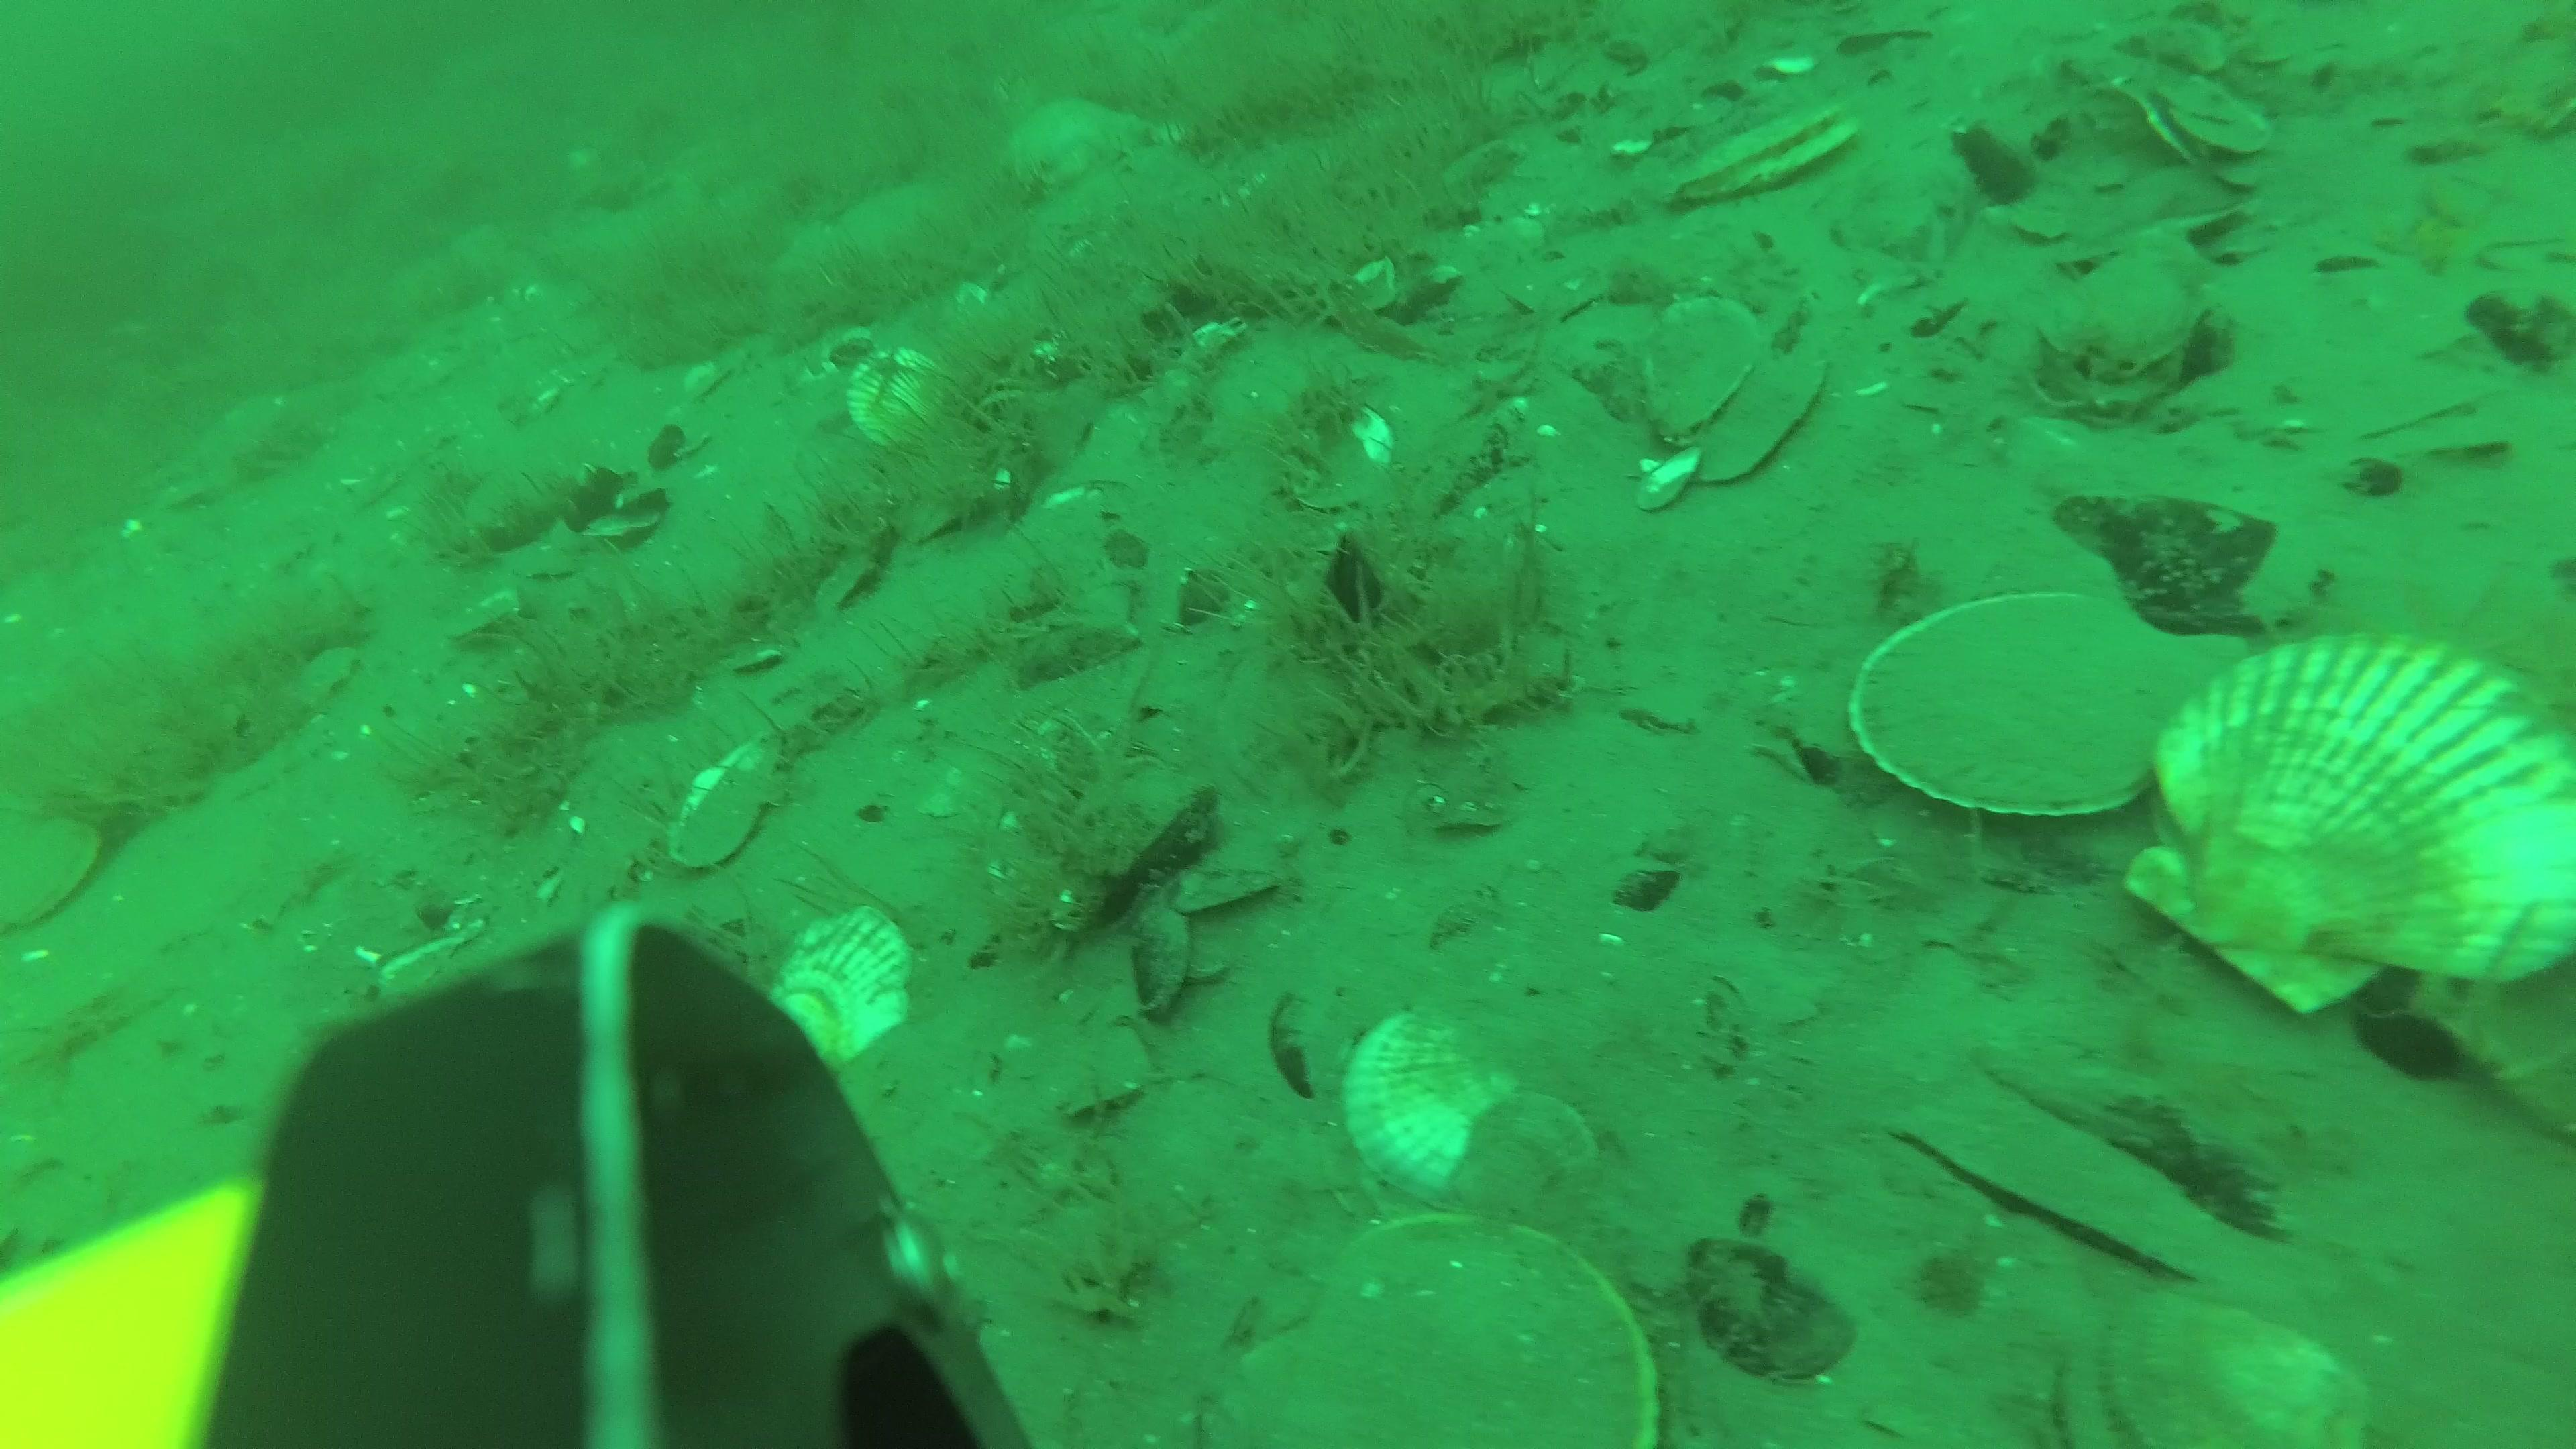scallop: (2121, 640, 2576, 1014), (1238, 1217, 1668, 1449), (1845, 591, 2266, 821), (2109, 1276, 2362, 1449), (1334, 1005, 1514, 1196), (770, 913, 920, 1072), (1670, 104, 1854, 209), (669, 734, 805, 872), (1684, 352, 1824, 487), (1444, 1097, 1589, 1221), (1635, 292, 1752, 441), (5, 807, 99, 932), (849, 350, 938, 460)
starfish: (1005, 92, 1148, 198)
